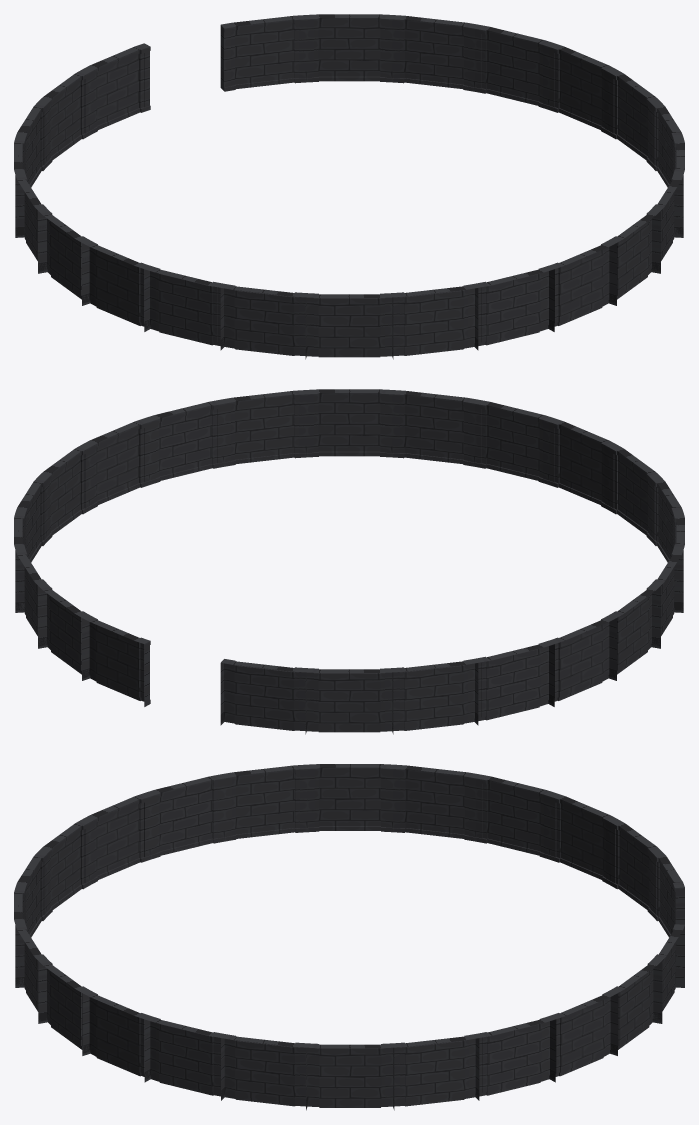
Rendered from bossArena.fbx.
3 renders of one model, top to bottom at view 1: azimuth 30°, elevation 25°; view 2: azimuth 150°, elevation 25°; view 3: azimuth 270°, elevation 25°, orthographic.
Visible parts, largest first — view 1: Cube; view 2: Cube; view 3: Cube.
Boxes of the visible parts, box(x1,y1,x2,y2) form: Cube: box(14, 14, 684, 359); Cube: box(14, 389, 684, 734); Cube: box(14, 764, 684, 1110).
Size of the model in its own units: 7705 by 800 by 7689.
1 material, 1 textured.
